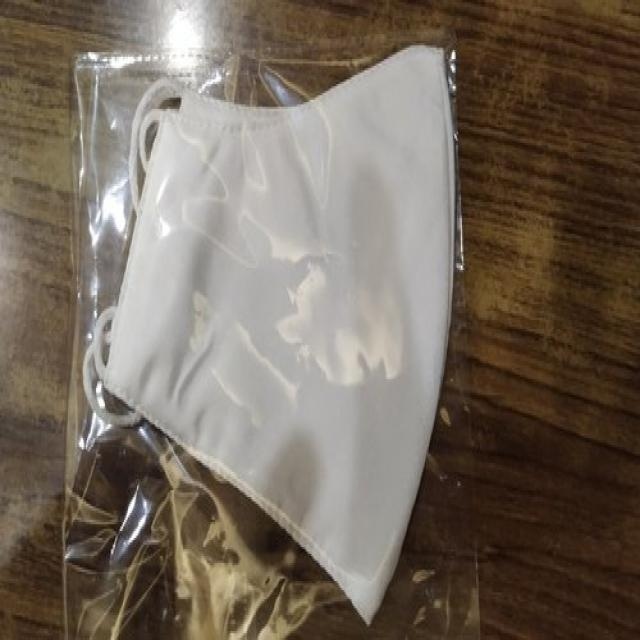non-organic waste: (79, 43, 462, 636)
